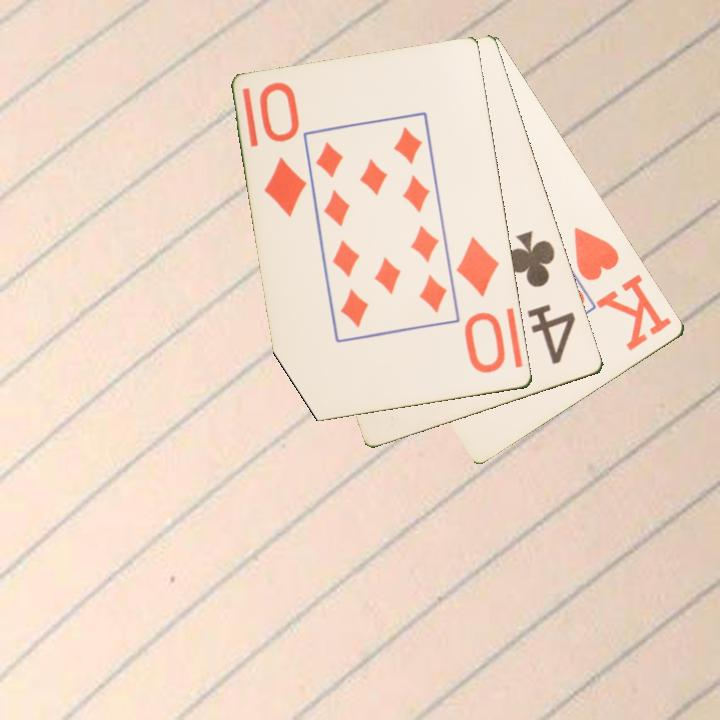10d: (452, 233, 509, 377), (256, 78, 309, 220)
4c: (504, 227, 579, 368)
Kh: (570, 223, 676, 354)
